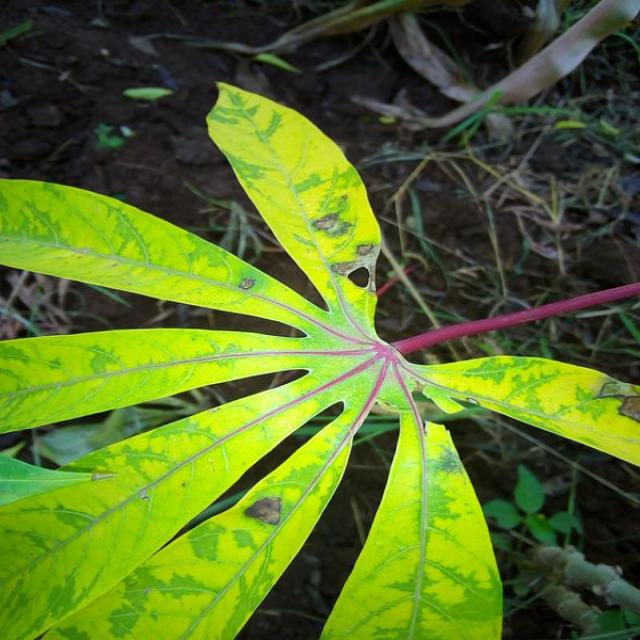cassava leaf: (0, 78, 638, 638), (318, 408, 504, 638)
